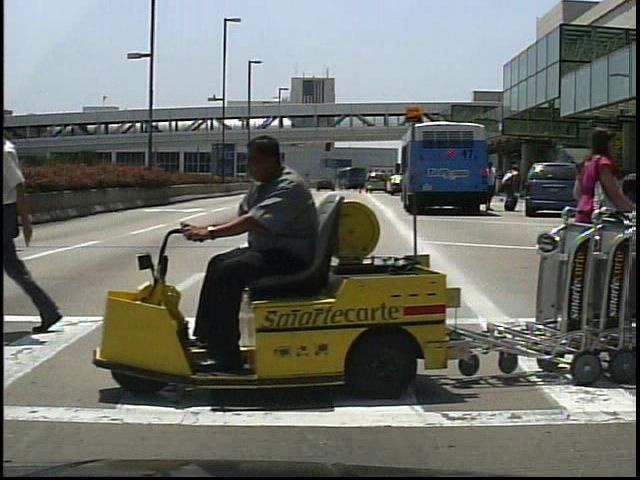person: (195, 134, 326, 373), (8, 100, 80, 337), (565, 120, 628, 351), (480, 162, 501, 215), (503, 164, 523, 217), (580, 164, 601, 214)
